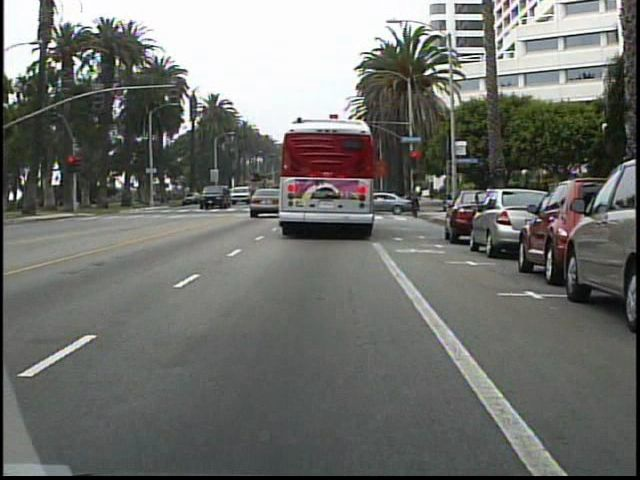person: (404, 183, 423, 216)
